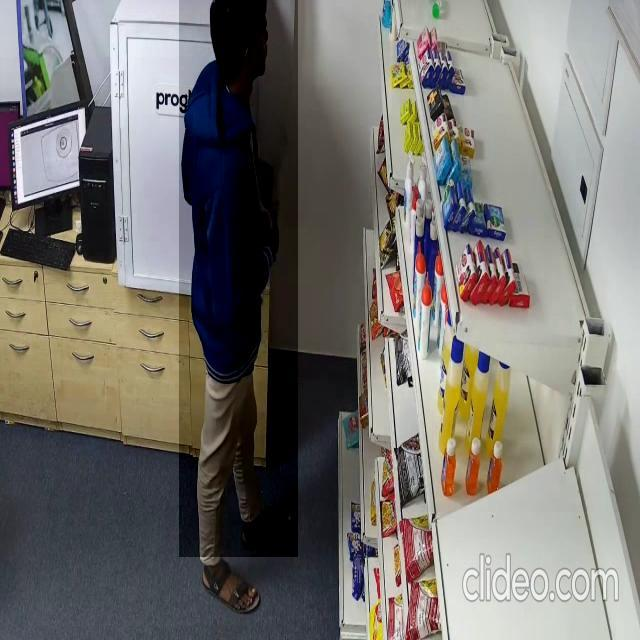Shoplifting: (179, 0, 298, 557)
